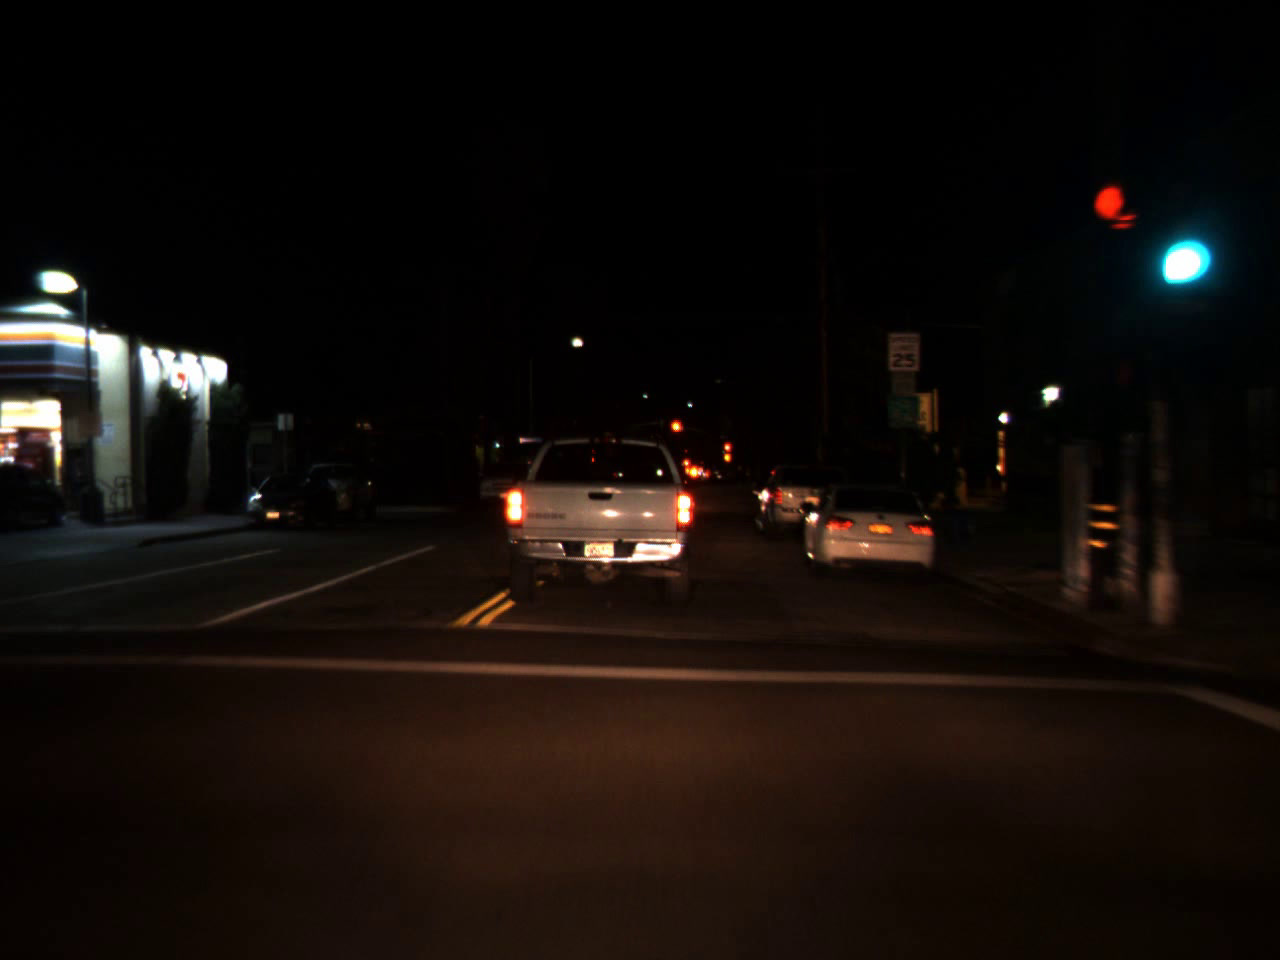go: (1151, 208, 1201, 292)
stop: (669, 419, 682, 446), (722, 442, 732, 463)
